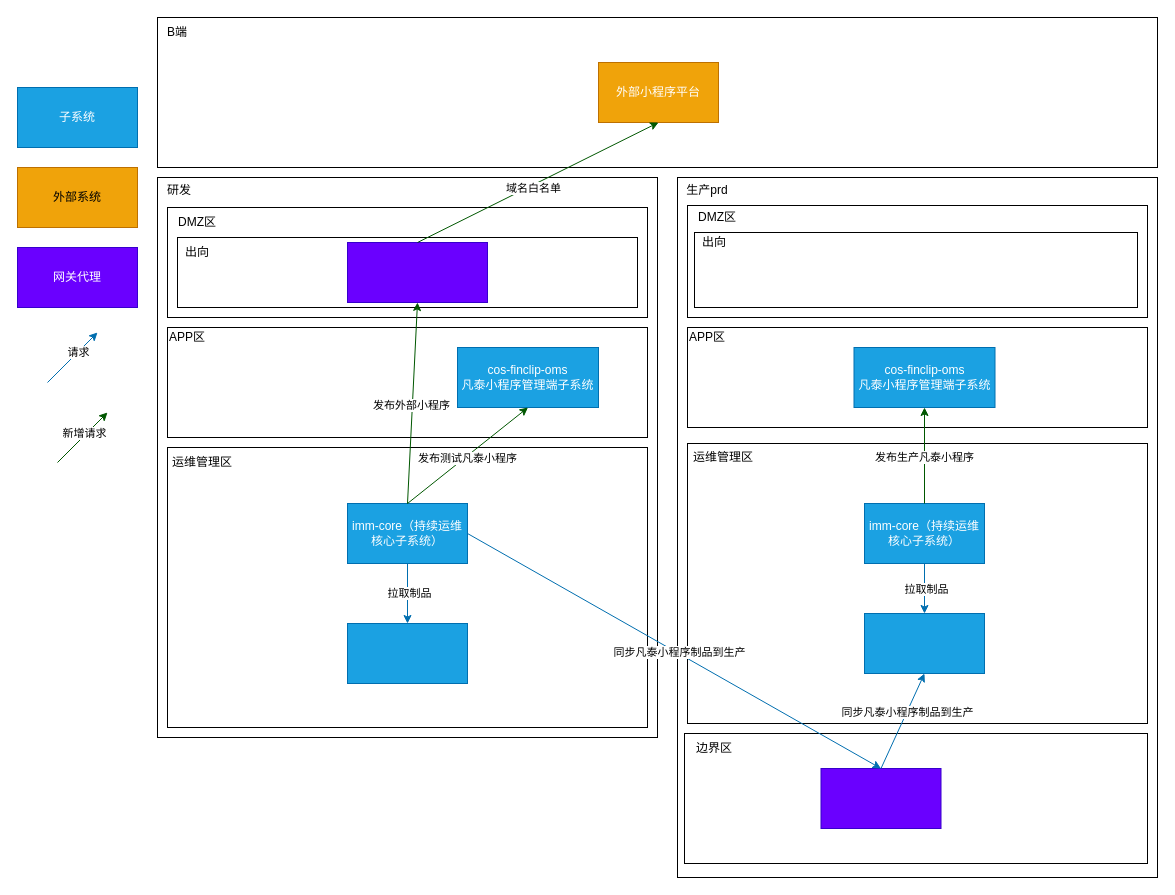
Some shapes in this 1175 by 895 pixel diagram are drawn without their labels. The centre of each missing label's shape, as x and y in pixels:
"imm-gw 持续运维外联网关子系统" goes at (x=417, y=272).
"minio" goes at (x=924, y=643).
"nap-bdgw-apisix（跨内部环境边界去APISIX网关子系统）" goes at (x=880, y=798).
"omm-coding-core(持续集成coding核心子系统)" goes at (x=407, y=653).
